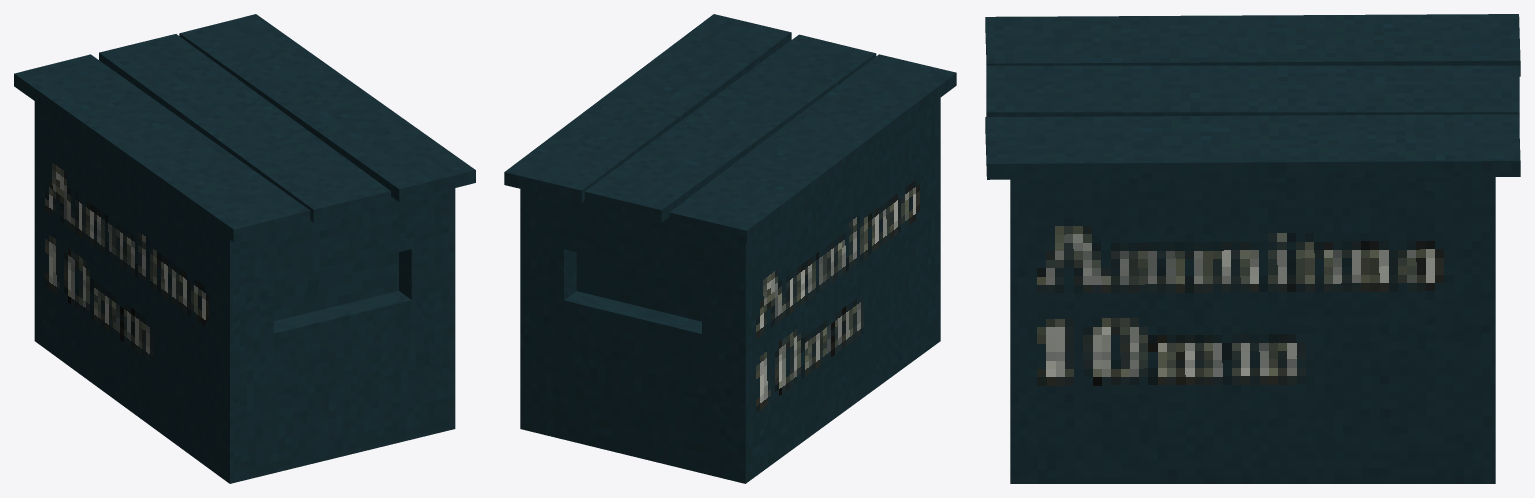
File: ammoBox.glb
The picture shows the model from 3 angles, left to right: view 1: azimuth 30°, elevation 25°; view 2: azimuth 150°, elevation 25°; view 3: azimuth 270°, elevation 25°; orthographic projection. The views are drawn at different scales.
Visible parts, largest first — view 1: AmmoBox; view 2: AmmoBox; view 3: AmmoBox.
Boxes of the visible parts, x1,y1,x2,y2 form: AmmoBox: (14,14,475,483); AmmoBox: (504,14,956,483); AmmoBox: (985,14,1520,483).
Size of the model in its own units: 0.8033 by 0.8162 by 1.21.
Materials: 1 (1 with a texture image).
